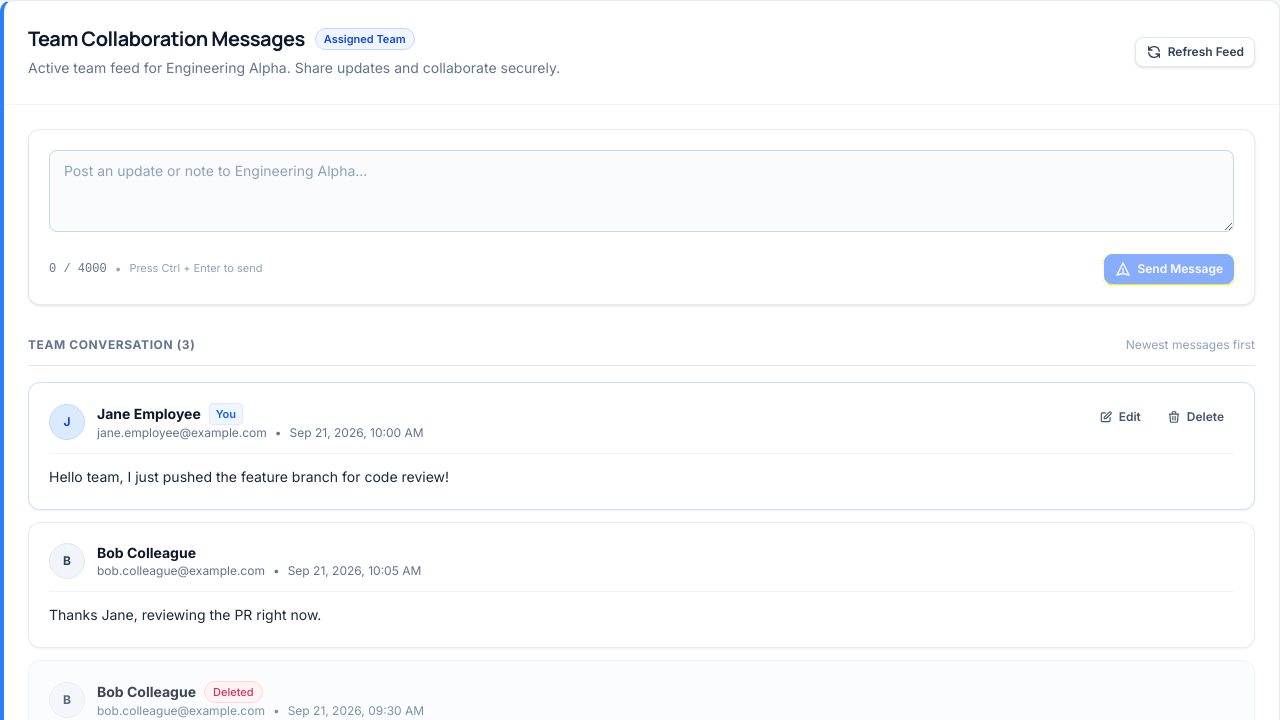
Collaboration Messages Feature Suite › Employee Workflow › employee can delete their own message after confirmation
Expected: the text "Hello team, I just pushed the feature branch for code review!" is shown, 49,468 -> 449,485
Click Delete
Click the button with aria-label "delete message".
click(1195, 417)  # box 1157,403 -> 1234,431
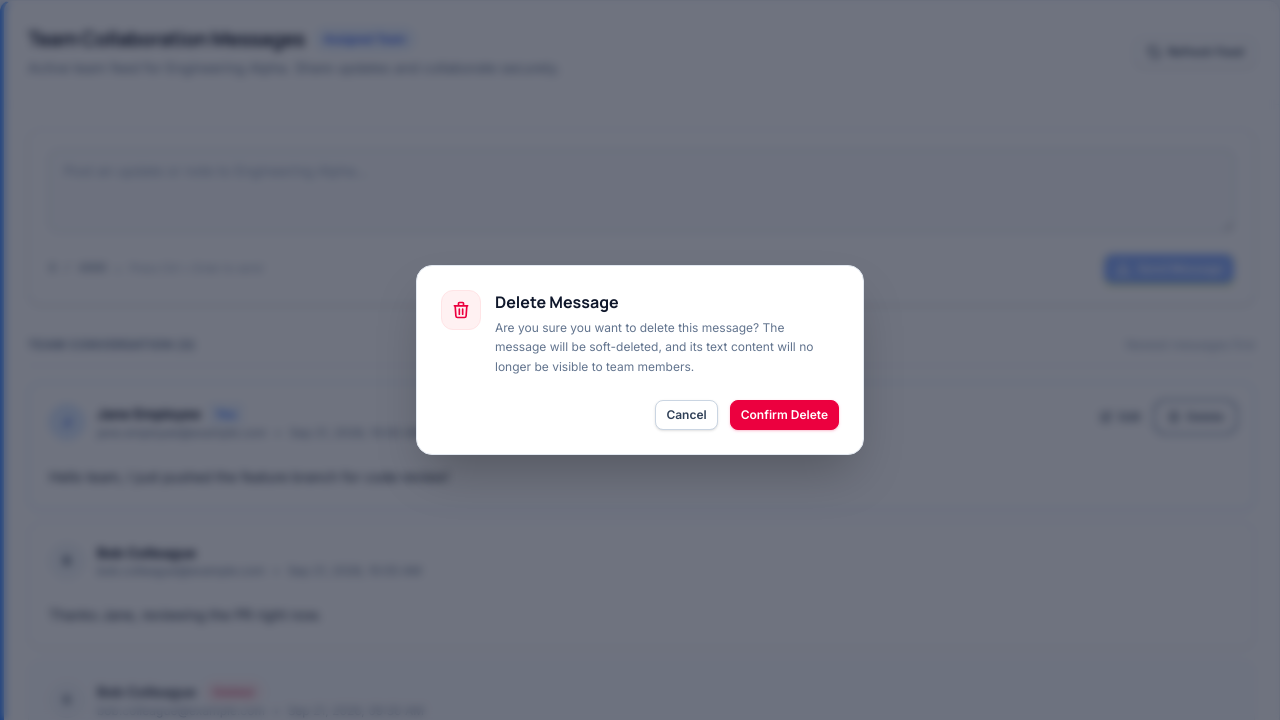
Now the heading "Delete Message" is shown, box 495,291 -> 619,313
Now the text "Are you sure you want to delete this message" is shown, box 495,320 -> 813,374
Confirm Delete
Click the button "Confirm Delete".
click(784, 415)  # box 730,400 -> 839,430
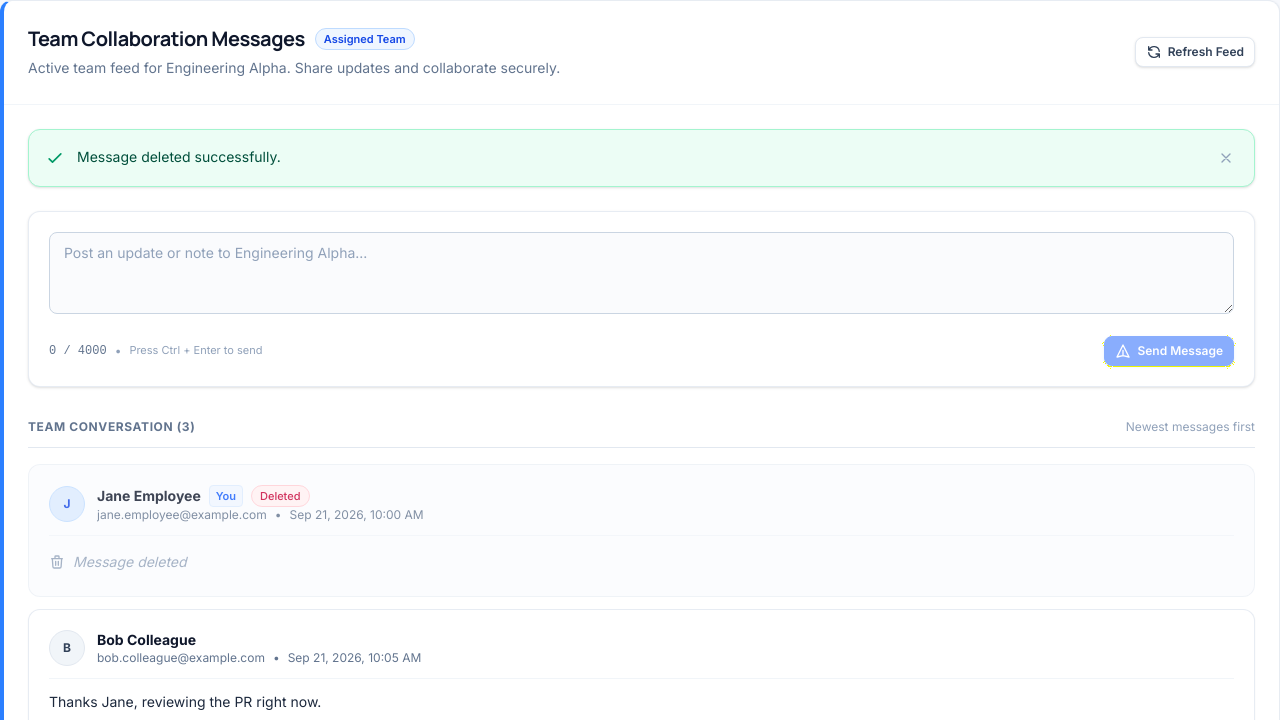
Now the text "Message deleted successfully." is shown, box 77,148 -> 281,165
